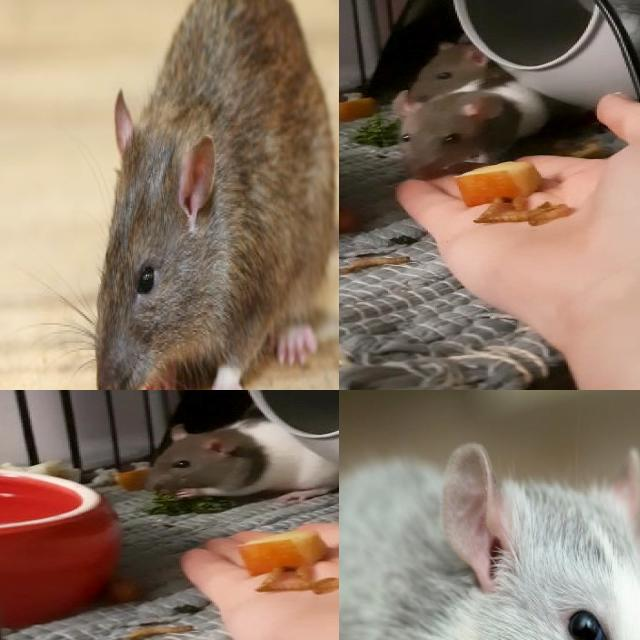rat: (77, 0, 339, 390), (339, 436, 640, 640), (386, 68, 562, 183), (154, 417, 339, 508), (402, 41, 516, 104)
